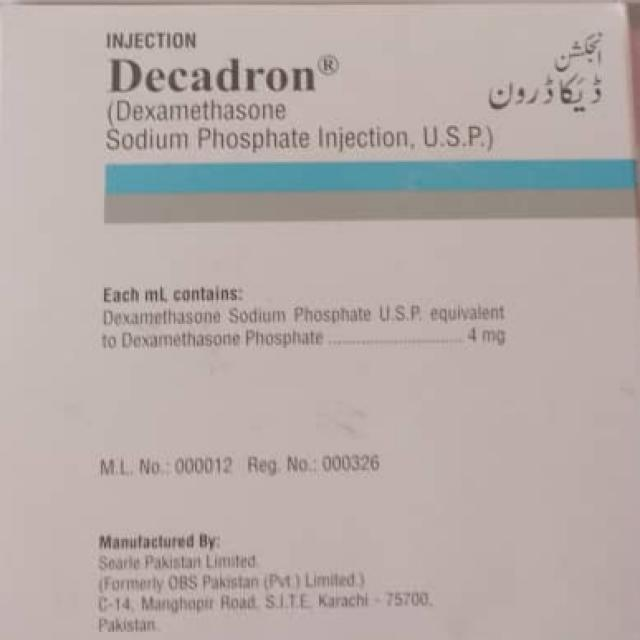drug-name: (106, 52, 342, 94)
